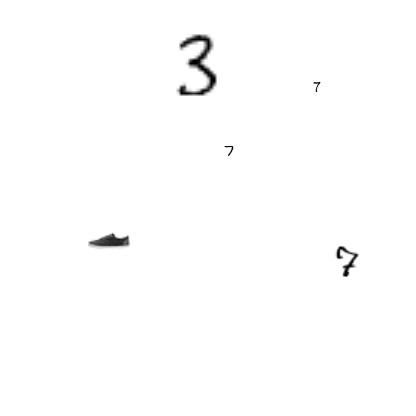3: (156, 23, 240, 107)
7: (325, 239, 367, 281), (310, 78, 324, 92), (223, 142, 237, 156)
Sneaker: (88, 219, 130, 261)
